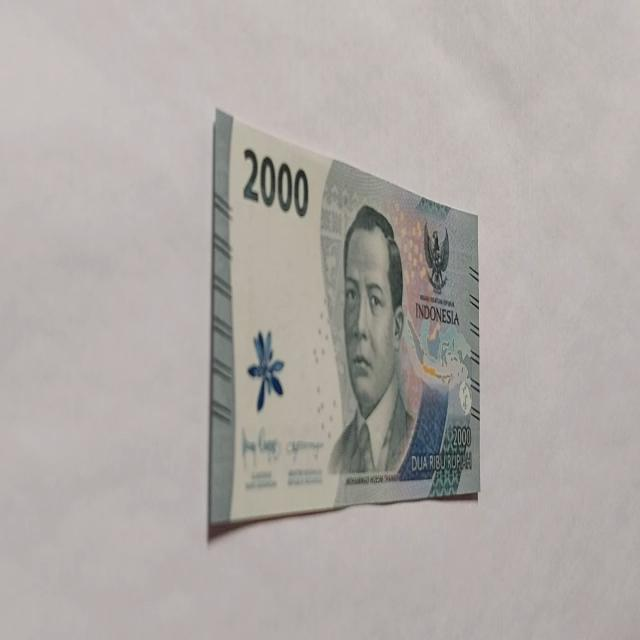dua ribu rupiah: (208, 108, 482, 532), (327, 202, 417, 480)
